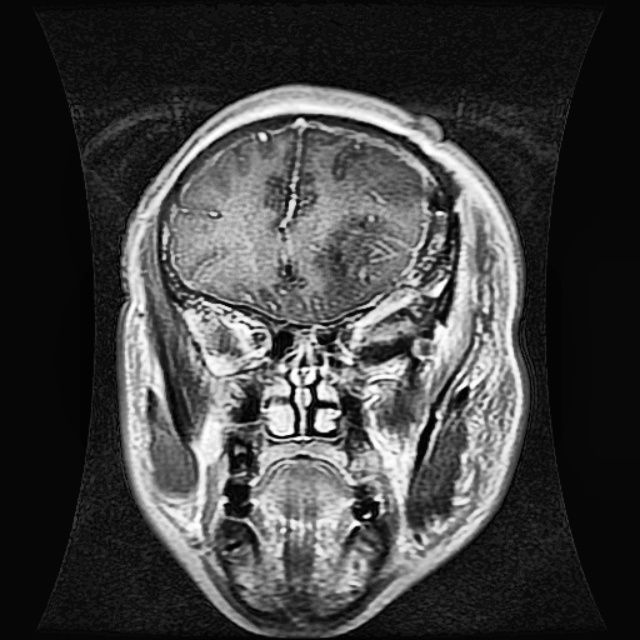Meningioma: (319, 214, 419, 319)
